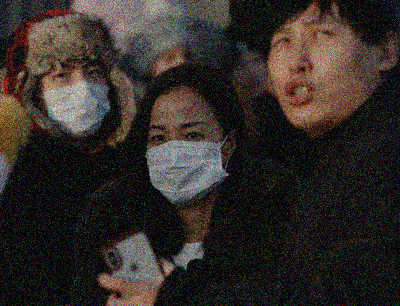with_mask: (145, 116, 229, 209), (37, 60, 112, 137)
without_mask: (268, 16, 380, 135)
